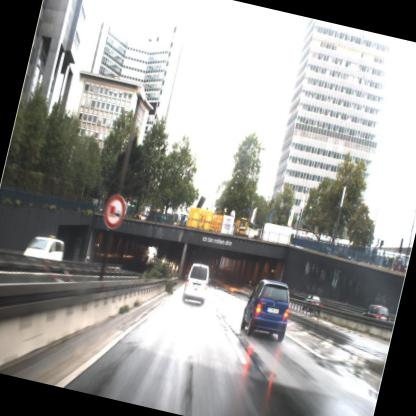prohibitory: (93, 192, 132, 237)
